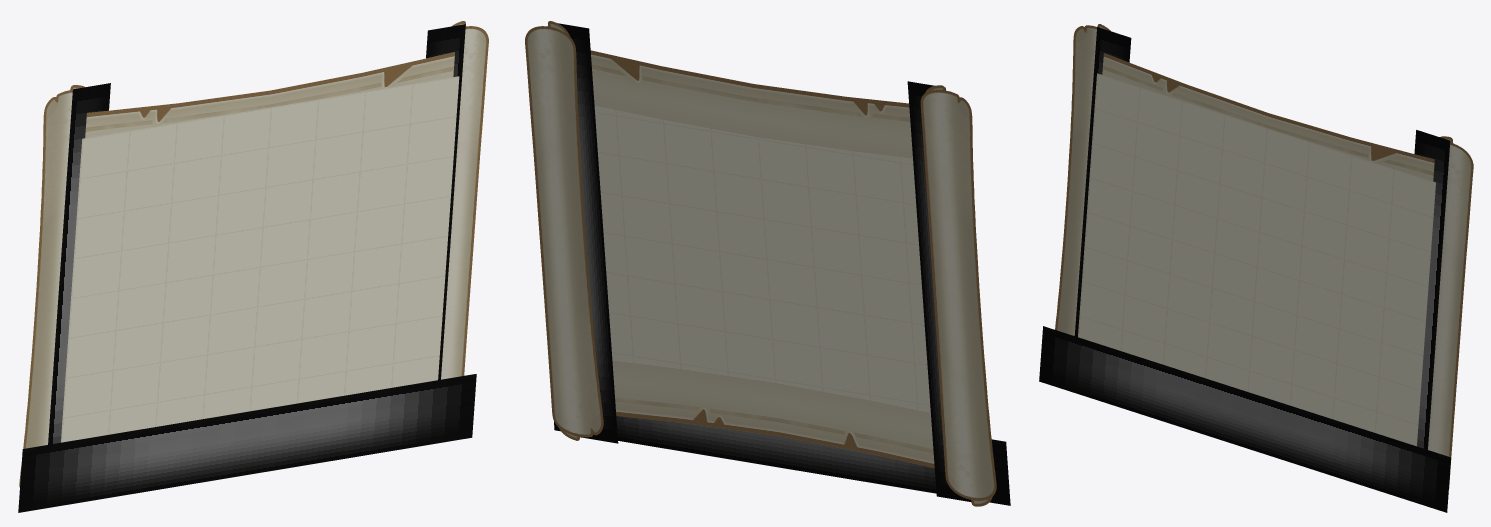
The model's file is IslandMapNextIslandPopup.fbx.
The picture shows the model from 3 angles, left to right: view 1: azimuth 30°, elevation 25°; view 2: azimuth 150°, elevation 25°; view 3: azimuth 330°, elevation 25°; orthographic projection. The views are drawn at different scales.
Parts seen in each view (by area): view 1: Grid, bottom_shadow, right_scroller, left_scroller, top_bottom_map, right_shadow, left_shadow; view 2: Grid, top_bottom_map, right_scroller, left_scroller, bottom_shadow, left_shadow, right_shadow; view 3: Grid, bottom_shadow, left_scroller, top_bottom_map, right_scroller, left_shadow, right_shadow.
Part boxes in pixels (x1,y1,x2,y2): Grid: (61,76,459,442); bottom_shadow: (18,374,476,512); right_scroller: (19,85,85,487); left_scroller: (441,21,488,379); top_bottom_map: (85,52,454,137); right_shadow: (48,83,110,444); left_shadow: (426,24,465,379); Grid: (594,105,930,413); top_bottom_map: (590,50,934,467); right_scroller: (920,85,996,506); left_scroller: (525,21,603,440); bottom_shadow: (554,416,1010,505); left_shadow: (557,23,618,443); right_shadow: (907,81,971,501); Grid: (1078,73,1435,446); bottom_shadow: (1039,326,1451,512); left_scroller: (1428,136,1473,488); top_bottom_map: (1102,53,1434,181); right_scroller: (1055,24,1110,335); left_shadow: (1414,130,1450,449); right_shadow: (1074,27,1131,336).
Size of the model in its own units: 1538 by 1376 by 35.38.
